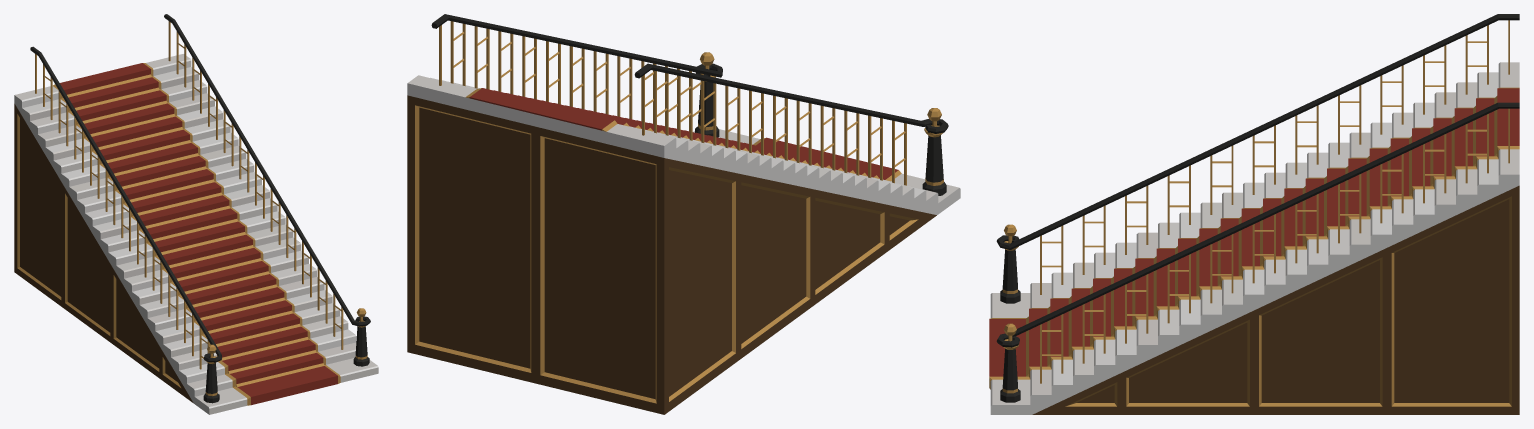
Rendered from grand-marble-staircase-dcff4d.glb.
The picture shows the model from 3 angles, left to right: view 1: azimuth 30°, elevation 25°; view 2: azimuth 150°, elevation 25°; view 3: azimuth 270°, elevation 25°; orthographic projection. The views are drawn at different scales.
Parts seen in each view (by area): view 1: staircase; view 2: staircase; view 3: staircase.
Part boxes in pixels (x1=…): staircase: x1=14, y1=14, x2=378, y2=414; staircase: x1=407, y1=14, x2=960, y2=414; staircase: x1=989, y1=14, x2=1519, y2=414.
Size of the model in its own units: 4 by 4.99 by 8.
